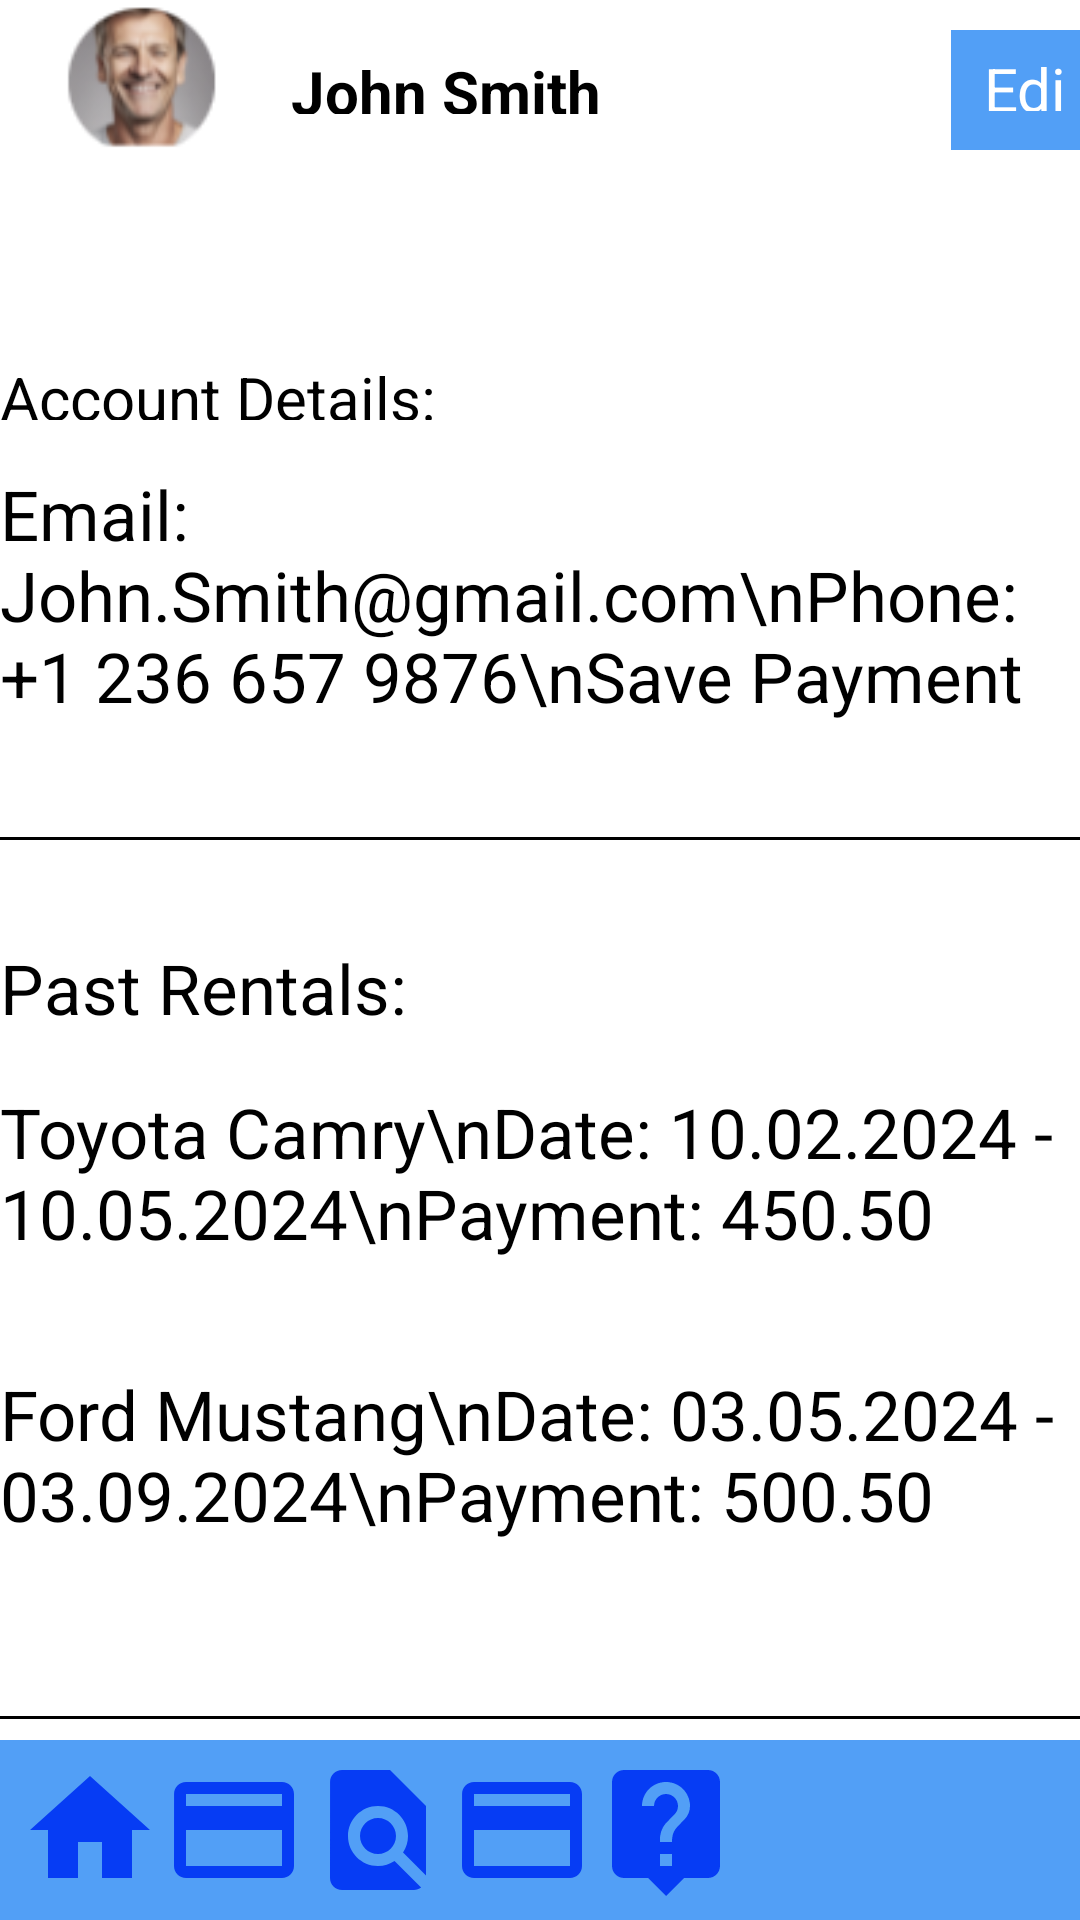

Screen size 1080px×1920px. Icon name, then its box in pixels as {"x1": x1, "y1": y1, "x2": x2, "y2": y2}:
Help: {"x1": 612, "y1": 1770, "x2": 720, "y2": 1896}
Home: {"x1": 30, "y1": 1776, "x2": 150, "y2": 1878}
lookup: {"x1": 330, "y1": 1770, "x2": 426, "y2": 1890}
profile picture: {"x1": 68, "y1": 7, "x2": 216, "y2": 147}
